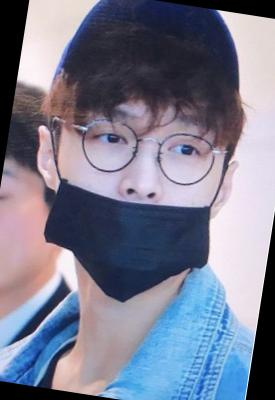mask_weared_incorrect: (33, 94, 231, 315)
